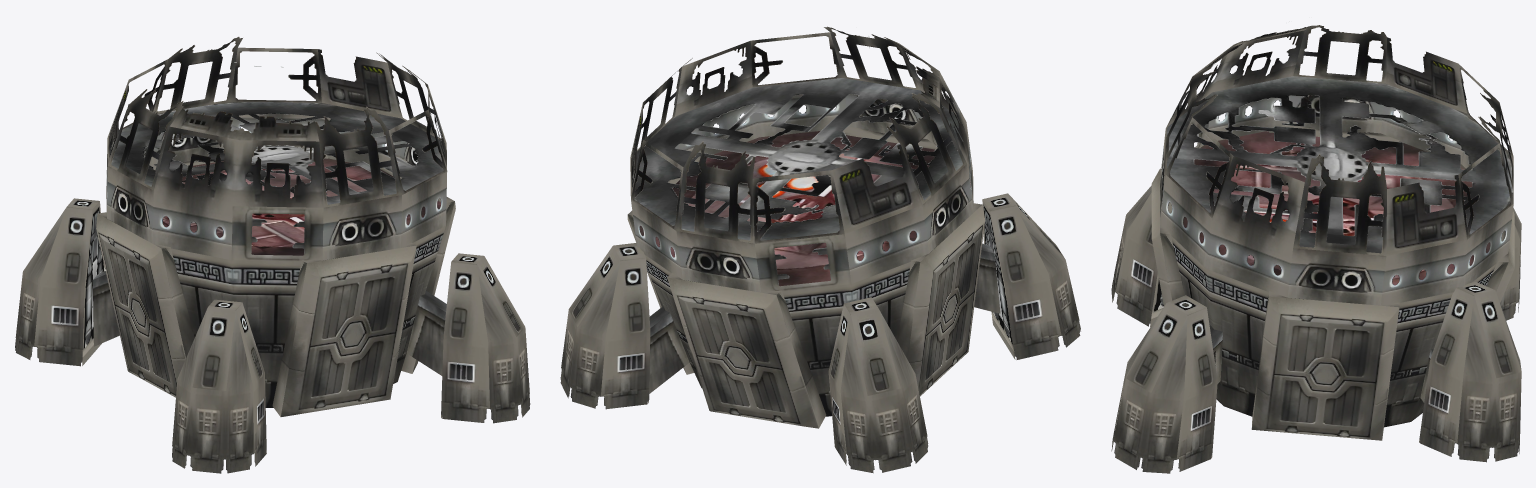
The model's file is dropshipdavion_dam_hdtex.glb.
3 renders of one model, left to right at view 1: azimuth 30°, elevation 25°; view 2: azimuth 150°, elevation 25°; view 3: azimuth 270°, elevation 25°, orthographic. The views are drawn at different scales.
Visible parts, largest first — view 1: DropshipDam; view 2: DropshipDam; view 3: DropshipDam.
Part boxes in pixels (x1,y1,x2,y2): DropshipDam: [15, 36, 530, 473]; DropshipDam: [560, 26, 1080, 473]; DropshipDam: [1111, 21, 1521, 473].
Bounding box in the file's own units: 35.96 × 32.97 × 34.85.
Materials: 1 (1 with a texture image).
